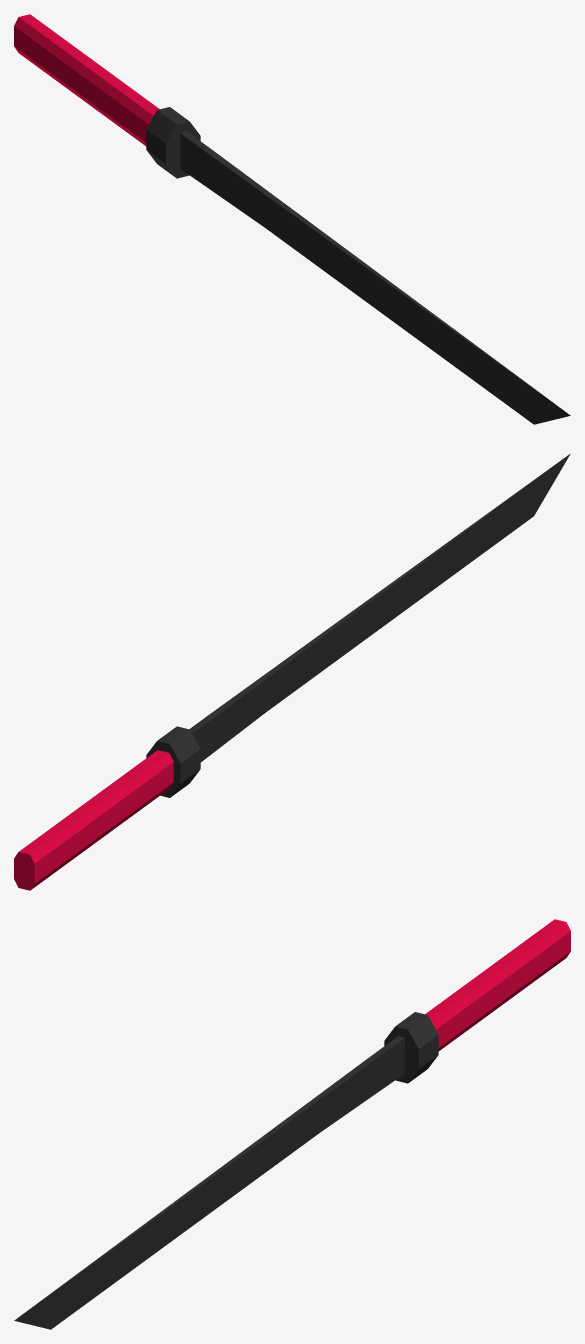
The model's file is sword.glb.
3 renders of one model, top to bottom at view 1: azimuth 30°, elevation 25°; view 2: azimuth 150°, elevation 25°; view 3: azimuth 330°, elevation 25°, orthographic.
Parts seen in each view (by area): view 1: sword; view 2: sword; view 3: sword.
Boxes of the visible parts, bbox=[...] form: sword: bbox=[14, 14, 570, 424]; sword: bbox=[14, 453, 570, 890]; sword: bbox=[14, 919, 570, 1329].
Size of the model in its own units: 0.1 by 0.15 by 2.75.
